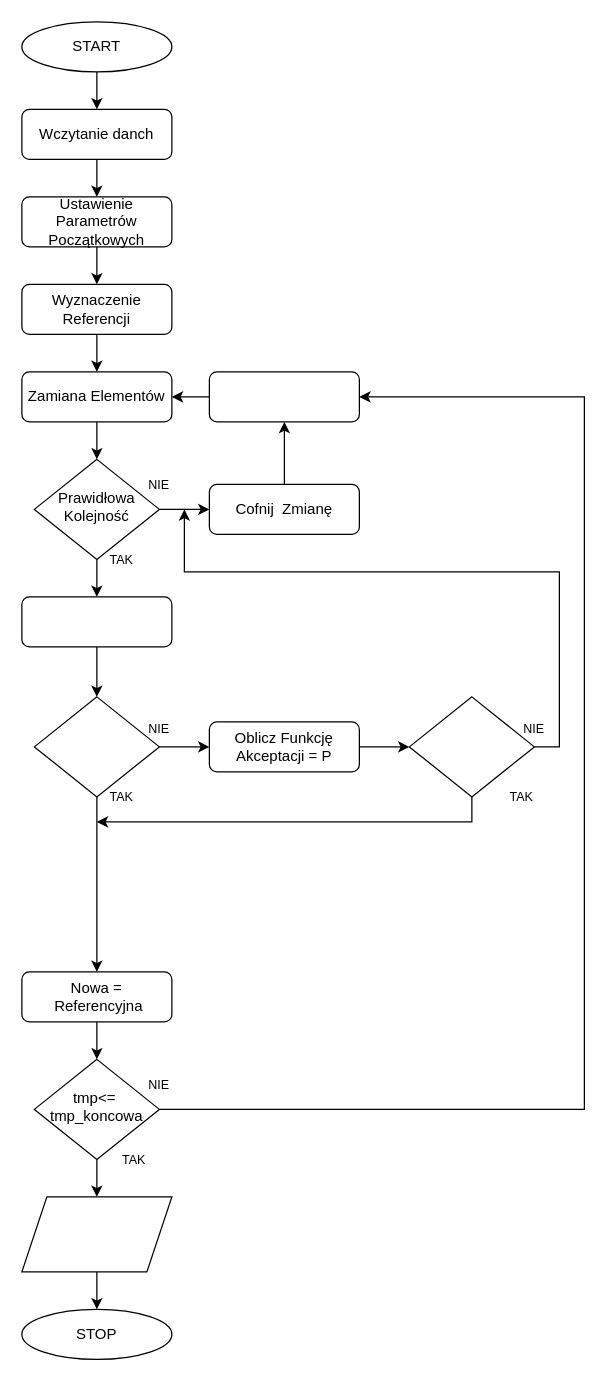
Image size: 616x1381. Some labels were removed from this diagram. The shapes that lost their labels are listed below. From the top down, each one's box as (x1, y1, x2, y2) in pixels, then its label:
(208, 371, 359, 422): Obniż temperaturę
(21, 596, 172, 647): Oblicz Wartość Funkcji Celu
(33, 696, 159, 797): Czy Nowa > Referencyjna
(408, 696, 534, 797): P >= random[0, 1)
(21, 1196, 172, 1272): Zwróć: Najlepszą Wartość
